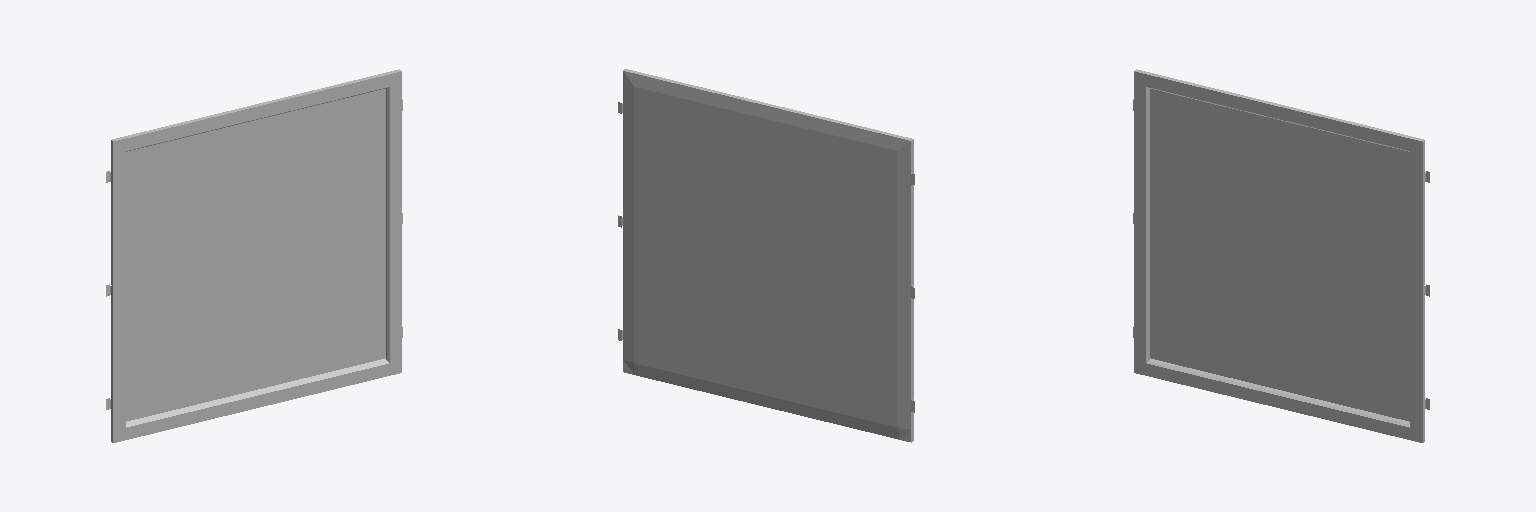
The model's file is mainWindow.obj.
3 views of the same model, side by side, from view 1: azimuth 30°, elevation 25°; view 2: azimuth 150°, elevation 25°; view 3: azimuth 330°, elevation 25° (orthographic).
Bounding box in the file's own units: 7.51 × 7.29 × 0.1539.